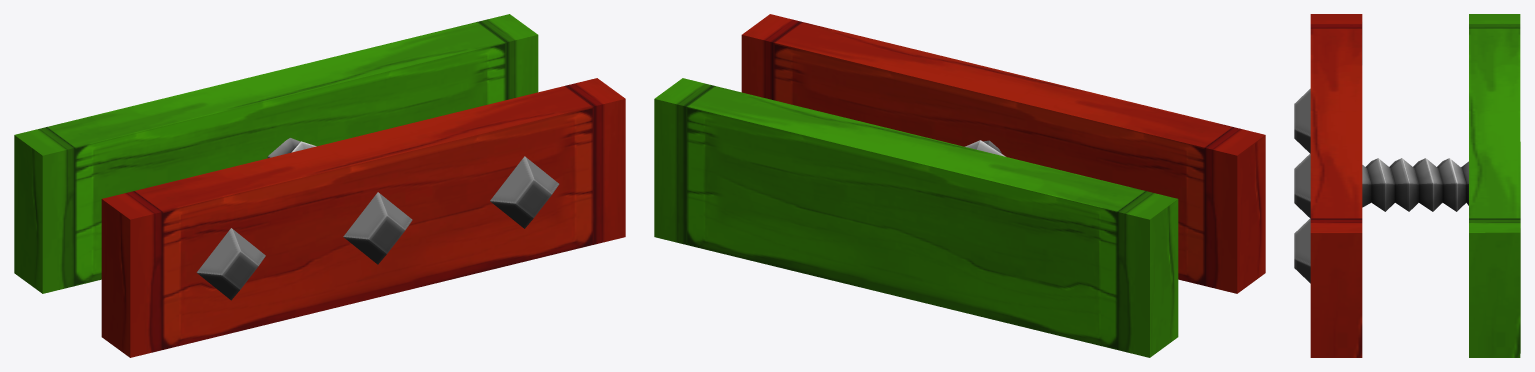
Rendered from fence_burger_02.fbx.
3 renders of one model, left to right at view 1: azimuth 30°, elevation 25°; view 2: azimuth 150°, elevation 25°; view 3: azimuth 270°, elevation 25°, orthographic. The views are drawn at different scales.
Visible parts, largest first — view 1: front_wall_1, Back_wall_1; view 2: Back_wall_1, front_wall_1; view 3: front_wall_1, Back_wall_1, spring_4.
Boxes of the visible parts, box(x1,y1,x2,y2) form: front_wall_1: box(101, 78, 625, 357); Back_wall_1: box(14, 14, 538, 293); Back_wall_1: box(654, 78, 1178, 357); front_wall_1: box(741, 14, 1265, 293); front_wall_1: box(1294, 14, 1362, 357); Back_wall_1: box(1469, 14, 1520, 357); spring_4: box(1362, 158, 1468, 211).
Size of the model in its own units: 150 by 40 by 65.51.
